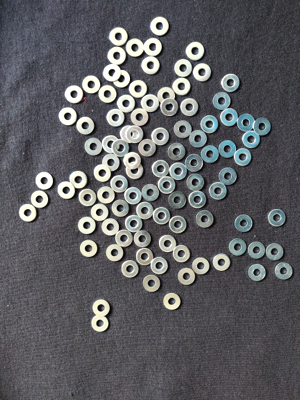circle: (267, 208, 288, 228), (186, 41, 205, 61), (150, 17, 170, 36), (109, 27, 129, 46), (193, 63, 213, 82), (275, 262, 295, 281), (79, 240, 99, 259), (192, 256, 211, 276), (162, 293, 182, 312), (90, 315, 110, 334), (174, 59, 193, 78), (76, 116, 95, 135), (234, 215, 253, 234), (248, 264, 267, 283), (173, 244, 192, 263), (143, 274, 162, 293), (221, 74, 241, 92), (237, 113, 257, 131), (69, 170, 87, 190), (144, 38, 163, 56), (107, 47, 126, 65), (142, 57, 161, 75), (113, 70, 132, 88), (102, 64, 121, 82), (98, 85, 117, 103), (65, 86, 84, 104), (189, 130, 208, 148), (101, 154, 120, 172), (18, 204, 37, 222), (78, 189, 97, 207), (168, 191, 187, 209), (77, 217, 96, 235), (169, 216, 188, 234), (196, 211, 215, 229), (266, 243, 285, 261), (158, 235, 177, 253), (127, 37, 144, 57), (157, 87, 175, 105), (117, 95, 135, 113), (181, 99, 199, 117), (214, 92, 232, 110), (59, 108, 77, 126), (125, 126, 143, 144), (174, 120, 192, 138), (254, 117, 272, 135), (201, 146, 219, 164), (168, 143, 186, 161), (139, 139, 157, 157), (35, 172, 53, 190), (31, 191, 49, 209), (126, 162, 144, 180), (234, 148, 252, 166), (209, 182, 227, 200), (189, 191, 207, 209), (124, 187, 142, 205), (248, 242, 266, 260), (229, 238, 247, 256), (125, 215, 143, 233), (115, 230, 133, 248), (150, 257, 168, 275), (122, 261, 140, 279), (93, 299, 111, 317), (214, 253, 231, 272), (83, 76, 100, 95), (130, 80, 147, 99), (173, 78, 192, 95), (141, 95, 160, 112), (131, 109, 150, 126), (219, 168, 238, 185), (90, 204, 109, 221), (101, 219, 120, 236), (179, 267, 196, 286), (121, 126, 138, 144), (85, 138, 102, 156), (243, 131, 261, 148), (219, 140, 236, 158), (94, 165, 112, 182), (58, 182, 75, 200), (186, 154, 203, 172), (171, 163, 188, 181), (152, 160, 170, 177), (158, 177, 176, 194), (98, 186, 115, 204), (186, 174, 205, 190), (136, 203, 155, 219), (107, 244, 123, 263), (108, 109, 125, 126), (161, 99, 178, 116), (202, 116, 219, 133), (221, 109, 238, 126), (124, 152, 141, 169), (111, 176, 128, 193), (112, 200, 129, 217), (135, 230, 152, 247), (103, 135, 119, 153), (153, 208, 171, 224), (113, 140, 129, 157), (153, 128, 169, 145), (142, 185, 159, 201), (137, 249, 153, 266)
